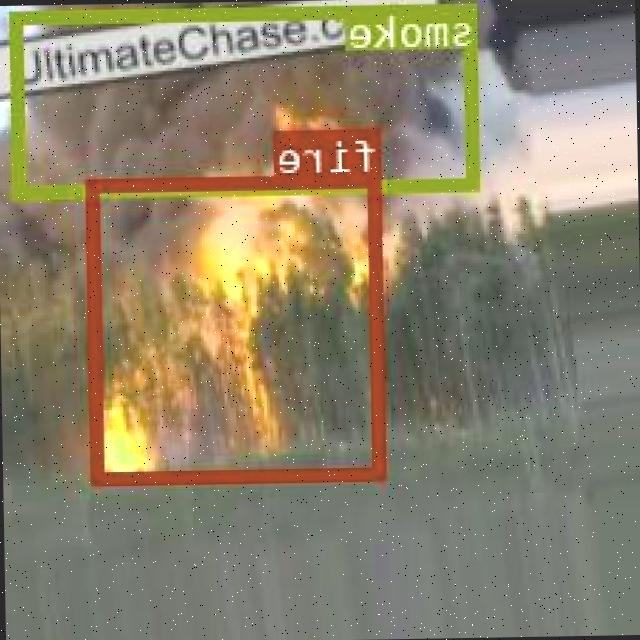fire: (88, 172, 386, 480)
smoke: (12, 2, 480, 195)
